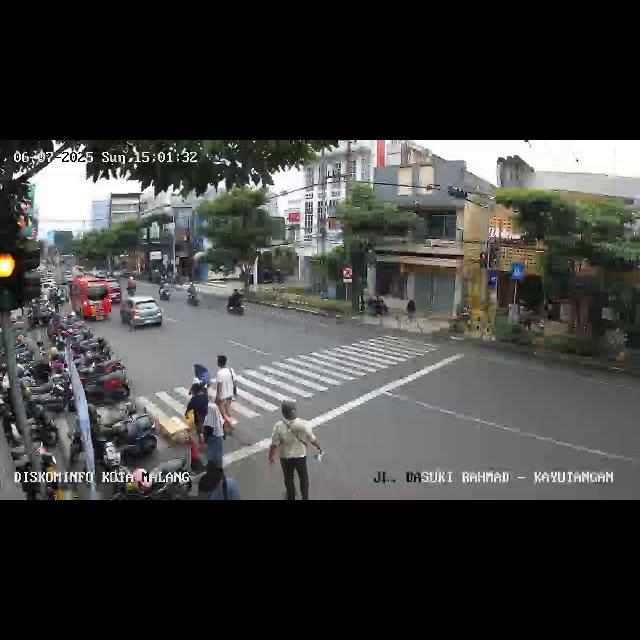car: (69, 276, 113, 322), (120, 296, 164, 332)
motorcycle: (227, 289, 247, 315), (186, 282, 200, 308), (160, 280, 172, 302), (127, 276, 137, 296)
person: (268, 396, 324, 500), (198, 456, 245, 500), (202, 402, 230, 460), (216, 354, 236, 434), (186, 382, 208, 443), (190, 360, 217, 400)
